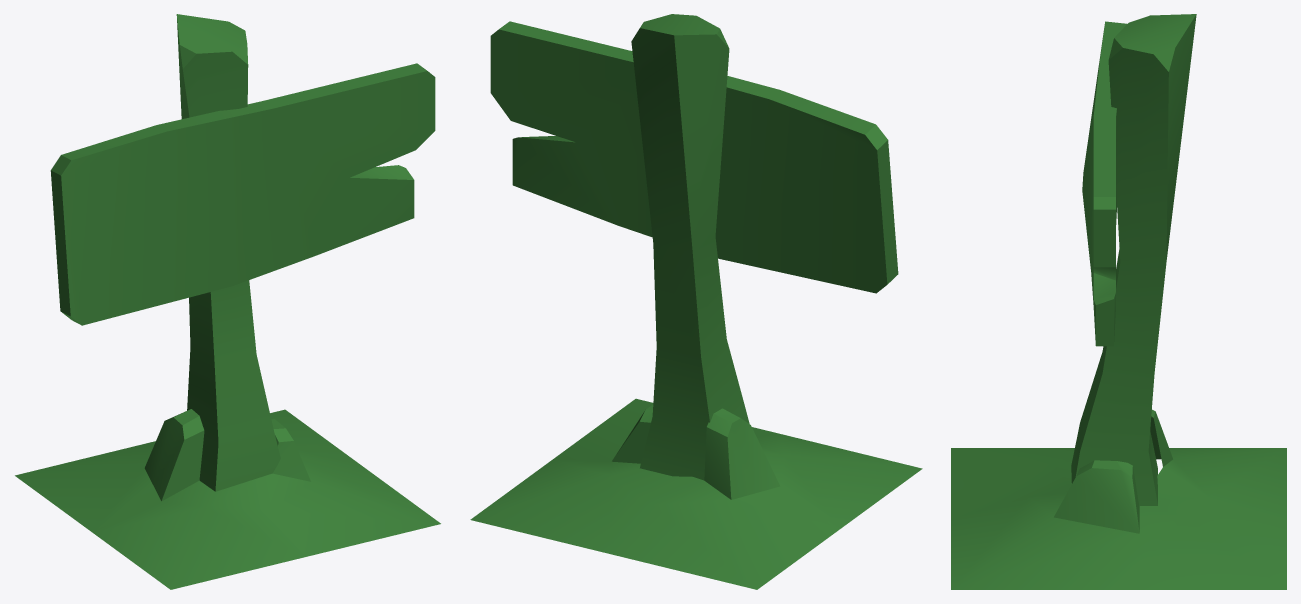
File: OBJ_Bulletin_01.FBX
The picture shows the model from 3 angles, left to right: view 1: azimuth 30°, elevation 25°; view 2: azimuth 150°, elevation 25°; view 3: azimuth 270°, elevation 25°; orthographic projection. The views are drawn at different scales.
Visible parts, largest first — view 1: OBJ_Bulletin_01; view 2: OBJ_Bulletin_01; view 3: OBJ_Bulletin_01.
Part boxes in pixels (x1=…): OBJ_Bulletin_01: x1=15, y1=14, x2=440, y2=589; OBJ_Bulletin_01: x1=470, y1=14, x2=922, y2=589; OBJ_Bulletin_01: x1=951, y1=14, x2=1286, y2=589.
Bounding box in the file's own units: 8.19 × 9.8 × 6.
